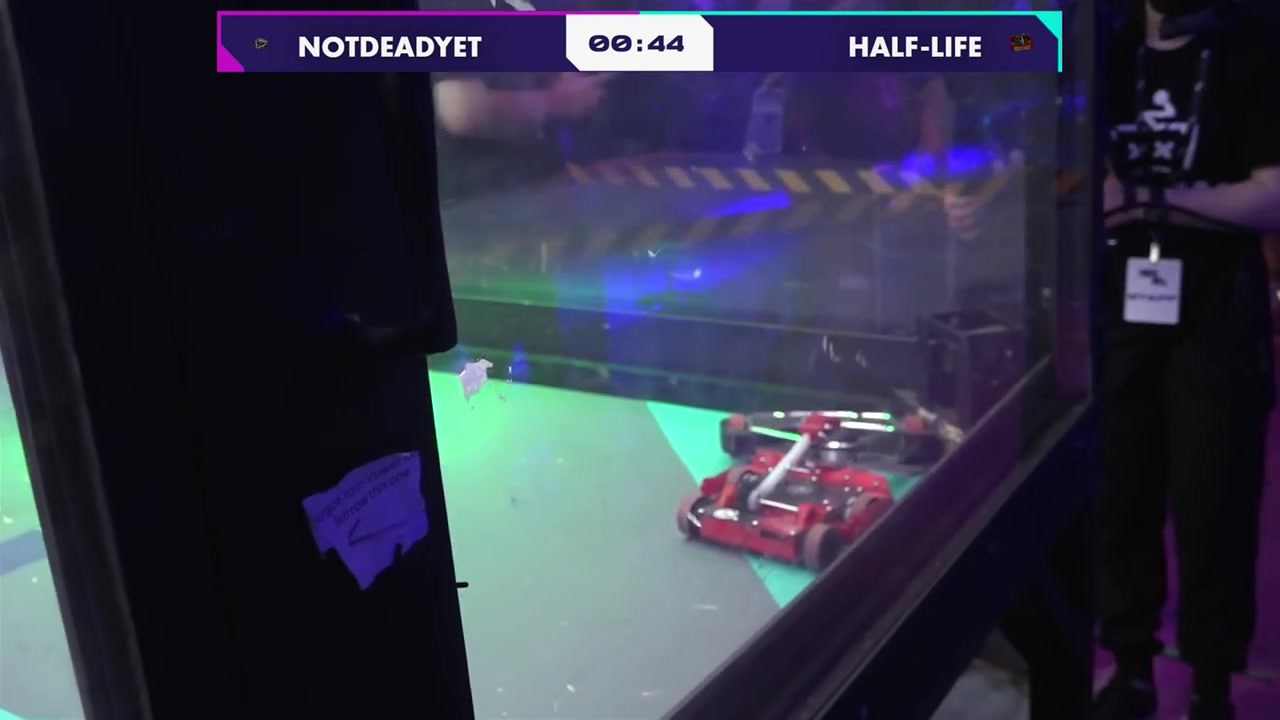combatbot: (678, 416, 893, 576), (720, 407, 951, 467)
